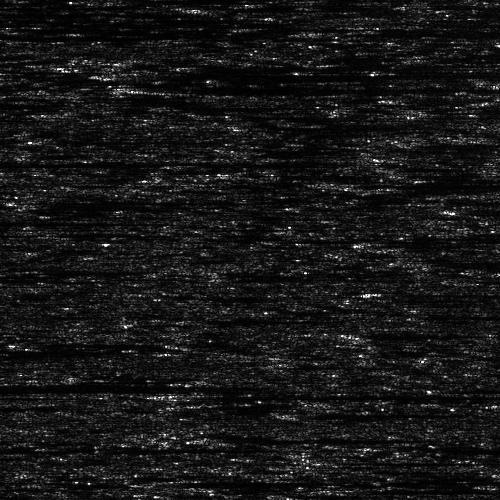object: (56, 61, 161, 86), (165, 0, 258, 13), (100, 84, 183, 95), (311, 177, 394, 188), (375, 256, 438, 267), (116, 389, 199, 396), (175, 434, 238, 441), (115, 478, 188, 483), (327, 331, 368, 336), (0, 442, 15, 453), (271, 406, 282, 415), (364, 290, 385, 293)
shadow: (108, 61, 454, 86), (142, 84, 492, 95), (0, 157, 230, 170), (0, 442, 248, 453), (158, 389, 460, 396), (212, 0, 353, 13), (353, 177, 500, 188), (0, 28, 122, 41), (207, 434, 390, 441), (0, 385, 236, 390), (0, 216, 129, 225), (277, 406, 402, 415), (407, 256, 500, 267), (152, 478, 330, 483), (0, 345, 80, 356), (348, 331, 478, 336), (375, 290, 500, 293), (0, 454, 42, 459), (0, 79, 16, 90)
